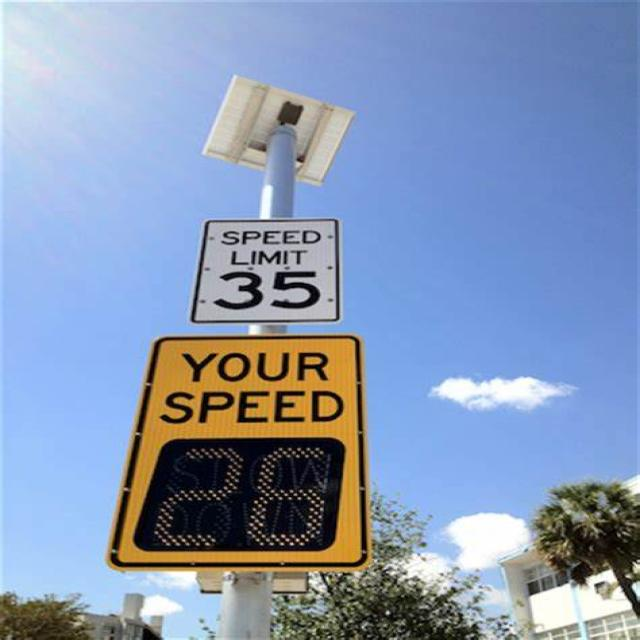speedLimit35: (190, 216, 346, 325)
